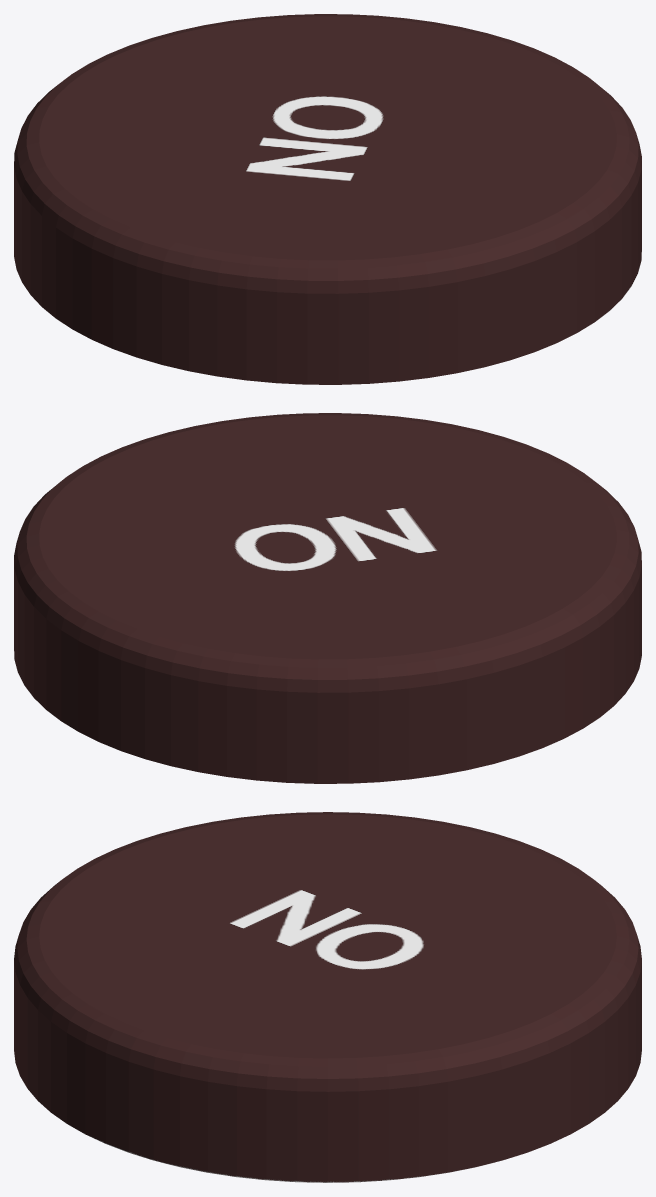
The model's file is Button_no.gltf.
3 views of the same model, one above another, from view 1: azimuth 30°, elevation 25°; view 2: azimuth 150°, elevation 25°; view 3: azimuth 270°, elevation 25° (orthographic).
Parts seen in each view (by area): view 1: Cylinder; view 2: Cylinder; view 3: Cylinder.
Boxes of the visible parts, box(x1,y1,x2,y2) form: Cylinder: box(14, 14, 641, 384); Cylinder: box(14, 413, 641, 783); Cylinder: box(14, 812, 641, 1182).
Size of the model in its own units: 0.1 by 0.02 by 0.1.
1 material, 1 textured.
